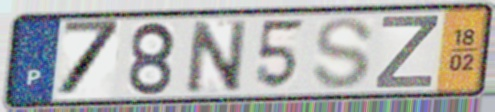5: (251, 17, 309, 94)
7: (59, 18, 124, 101)
8: (126, 19, 177, 98)
N: (184, 17, 250, 97)
S: (309, 15, 377, 92)
Z: (371, 14, 442, 91)
